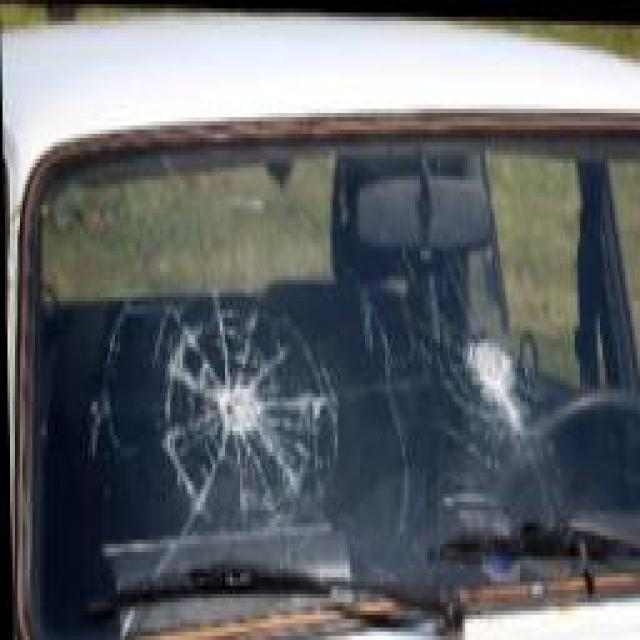Windshield: (38, 96, 640, 640)
